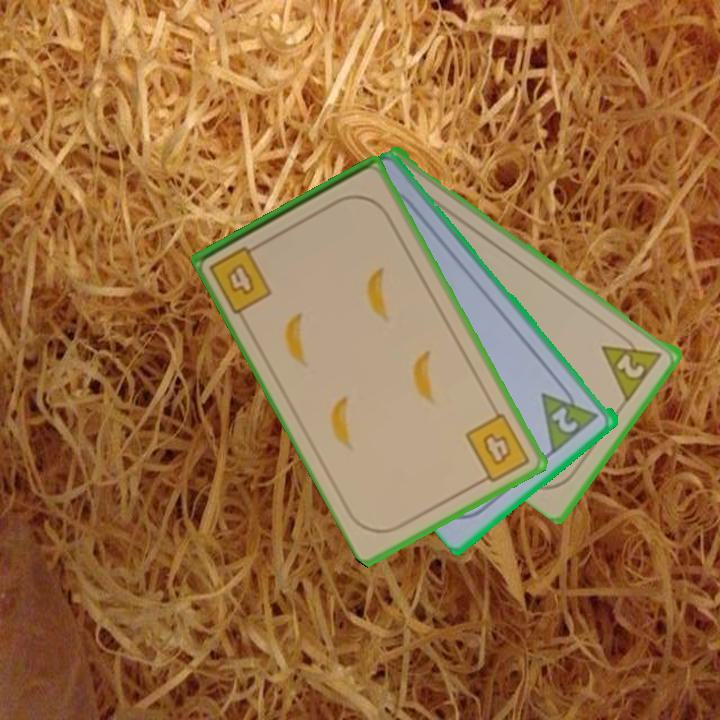2p: (538, 377, 603, 455), (598, 328, 665, 403)
4b: (461, 409, 533, 488), (205, 239, 276, 316)
